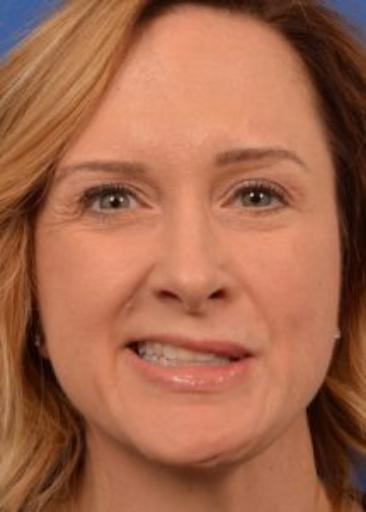left_eye: (220, 183, 293, 219)
left_lip_corner: (248, 345, 262, 367)
right_eye: (69, 183, 157, 218)
right_lip_corner: (117, 337, 138, 357)
